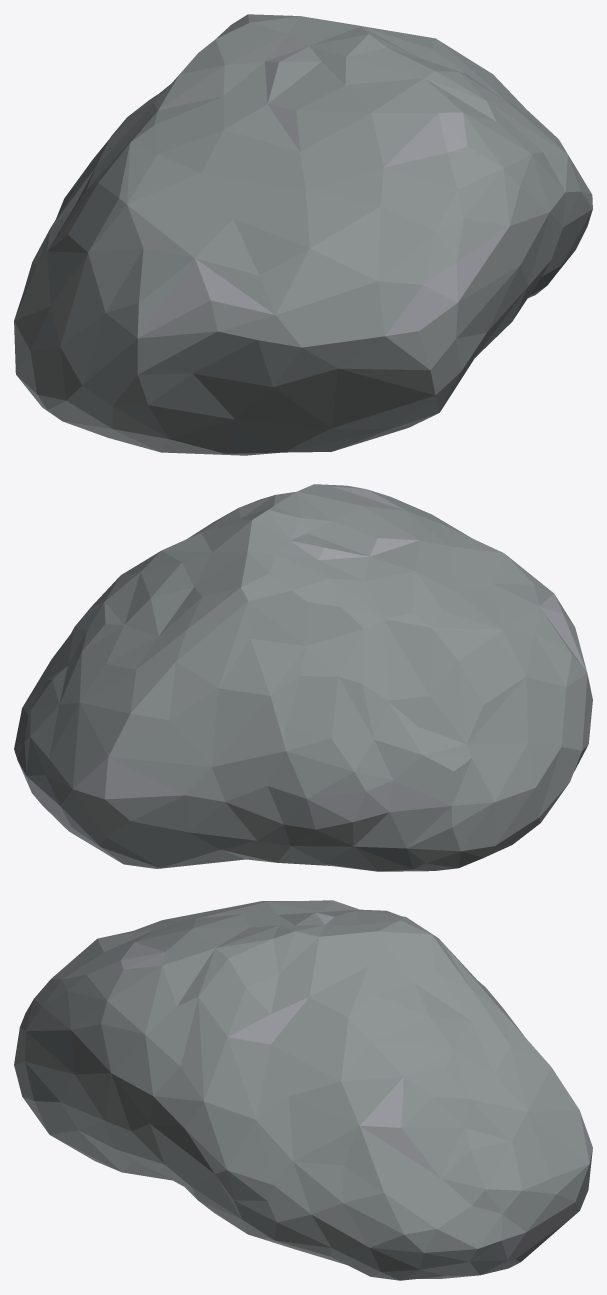
The model's file is mesh_rock_small_03.fbx.
3 renders of one model, top to bottom at view 1: azimuth 30°, elevation 25°; view 2: azimuth 150°, elevation 25°; view 3: azimuth 270°, elevation 25°, orthographic. The views are drawn at different scales.
Parts seen in each view (by area): view 1: mesh_rock_small_03_LOD0; view 2: mesh_rock_small_03_LOD0; view 3: mesh_rock_small_03_LOD0.
Part boxes in pixels (x1,y1,x2,y2): mesh_rock_small_03_LOD0: (14, 14, 592, 455); mesh_rock_small_03_LOD0: (14, 484, 592, 871); mesh_rock_small_03_LOD0: (14, 900, 592, 1280).
Size of what is drawn, in the model's own units: 0.9899 by 0.5946 by 1.01.
